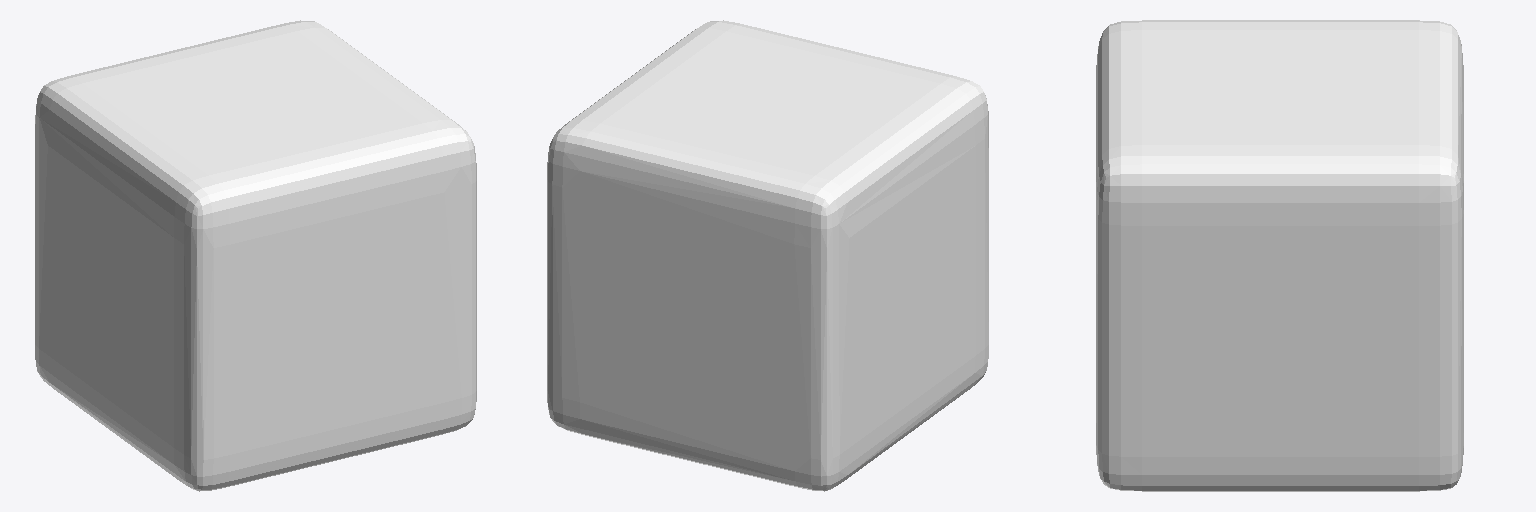
URDF robot description (cube.urdf):
<?xml version="1.0" ?>
<robot name="cube.urdf">
  <link name="baseLink">
    <contact>
    	<lateral_friction value="50.0"/>
      <rolling_friction value="0.0001"/>
      <spinning_friction value="0.0001"/>
    </contact>
    <inertial>
      <origin rpy="0 0 0" xyz="0 0 0"/>
       <mass value="1"/>
       <inertia ixx="1" ixy="0" ixz="0" iyy="1.3" iyz="0" izz="0.5"/>
    </inertial>
    <visual>
      <origin rpy="0 0 0" xyz="0 0 0"/>
      <geometry>
				<mesh filename="textured_cube_rounded.obj" scale=".05 .05 .05"/>
      </geometry>
       <material name="white">
        <color rgba="1 1 1 1"/>
      </material>
    </visual>
    <collision>
      <origin rpy="0 0 0" xyz="0 0 0"/>
      <geometry>
	 	<box size=".05 .05 .05"/>
      </geometry>
    </collision>
  </link>
</robot>

--- What the picture shows (computed from the rendered views, not written in the file) ---
3 views of the same robot in one strip: view 1: azimuth 30°, elevation 25°; view 2: azimuth 150°, elevation 25°; view 3: azimuth 270°, elevation 25° (orthographic).
Robot: cube.urdf — 1 links, 0 joints (none); root link baseLink; default pose: every joint at zero.
Visible links, largest first — view 1: baseLink; view 2: baseLink; view 3: baseLink.
Link boxes in pixels (x1,y1,x2,y2): baseLink: (35, 20, 476, 491); baseLink: (547, 20, 988, 491); baseLink: (1096, 20, 1463, 491).
Bounding box of the posed robot: 0.05 × 0.05 × 0.05 m (x, y, z).
Meshes: 1 distinct files referenced, 1 mesh visuals loaded (1 OBJ).